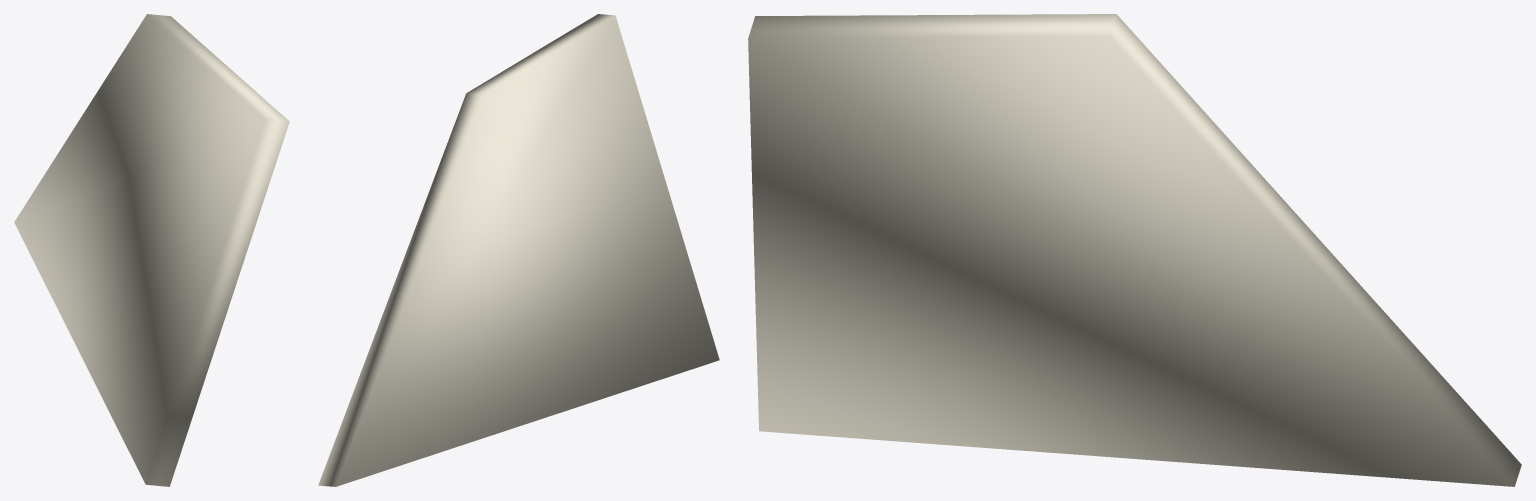
3 renders of one model, left to right at view 1: azimuth 30°, elevation 25°; view 2: azimuth 150°, elevation 25°; view 3: azimuth 270°, elevation 25°, orthographic. The views are drawn at different scales.
Parts seen in each view (by area): view 1: ZA_8b8a8f0e404eaa75; view 2: ZA_8b8a8f0e404eaa75; view 3: ZA_8b8a8f0e404eaa75.
Boxes of the visible parts, x1=… form: ZA_8b8a8f0e404eaa75: x1=14, y1=14, x2=289, y2=486; ZA_8b8a8f0e404eaa75: x1=318, y1=14, x2=719, y2=486; ZA_8b8a8f0e404eaa75: x1=748, y1=14, x2=1521, y2=486.
Size of the model in its own units: 0.00359 by 0.00746 by 0.0107.
